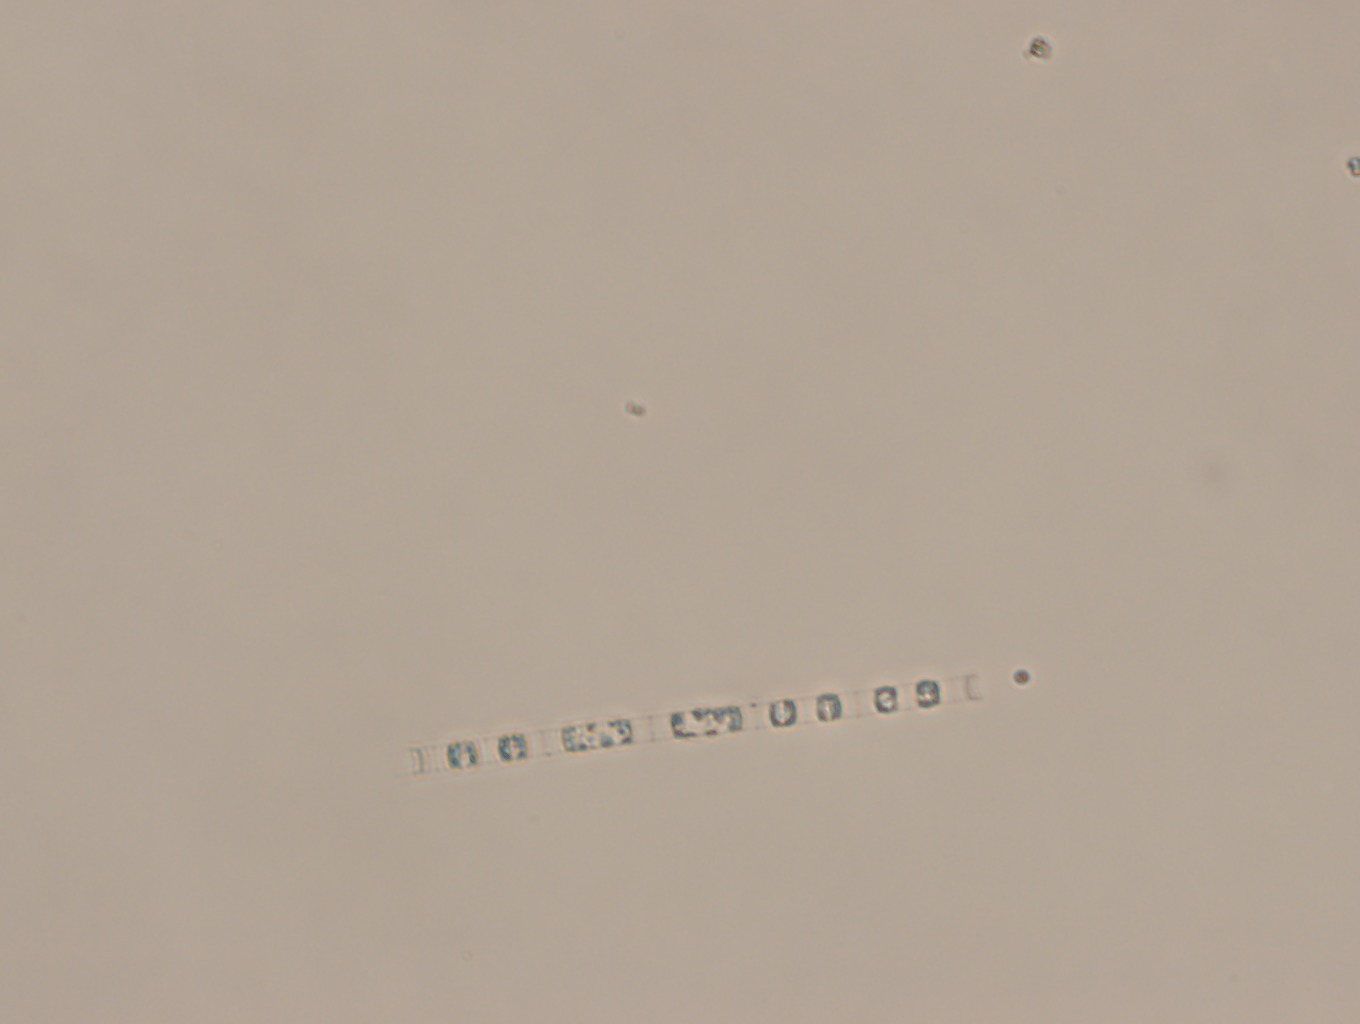skeletonema: (390, 662, 1061, 785)
